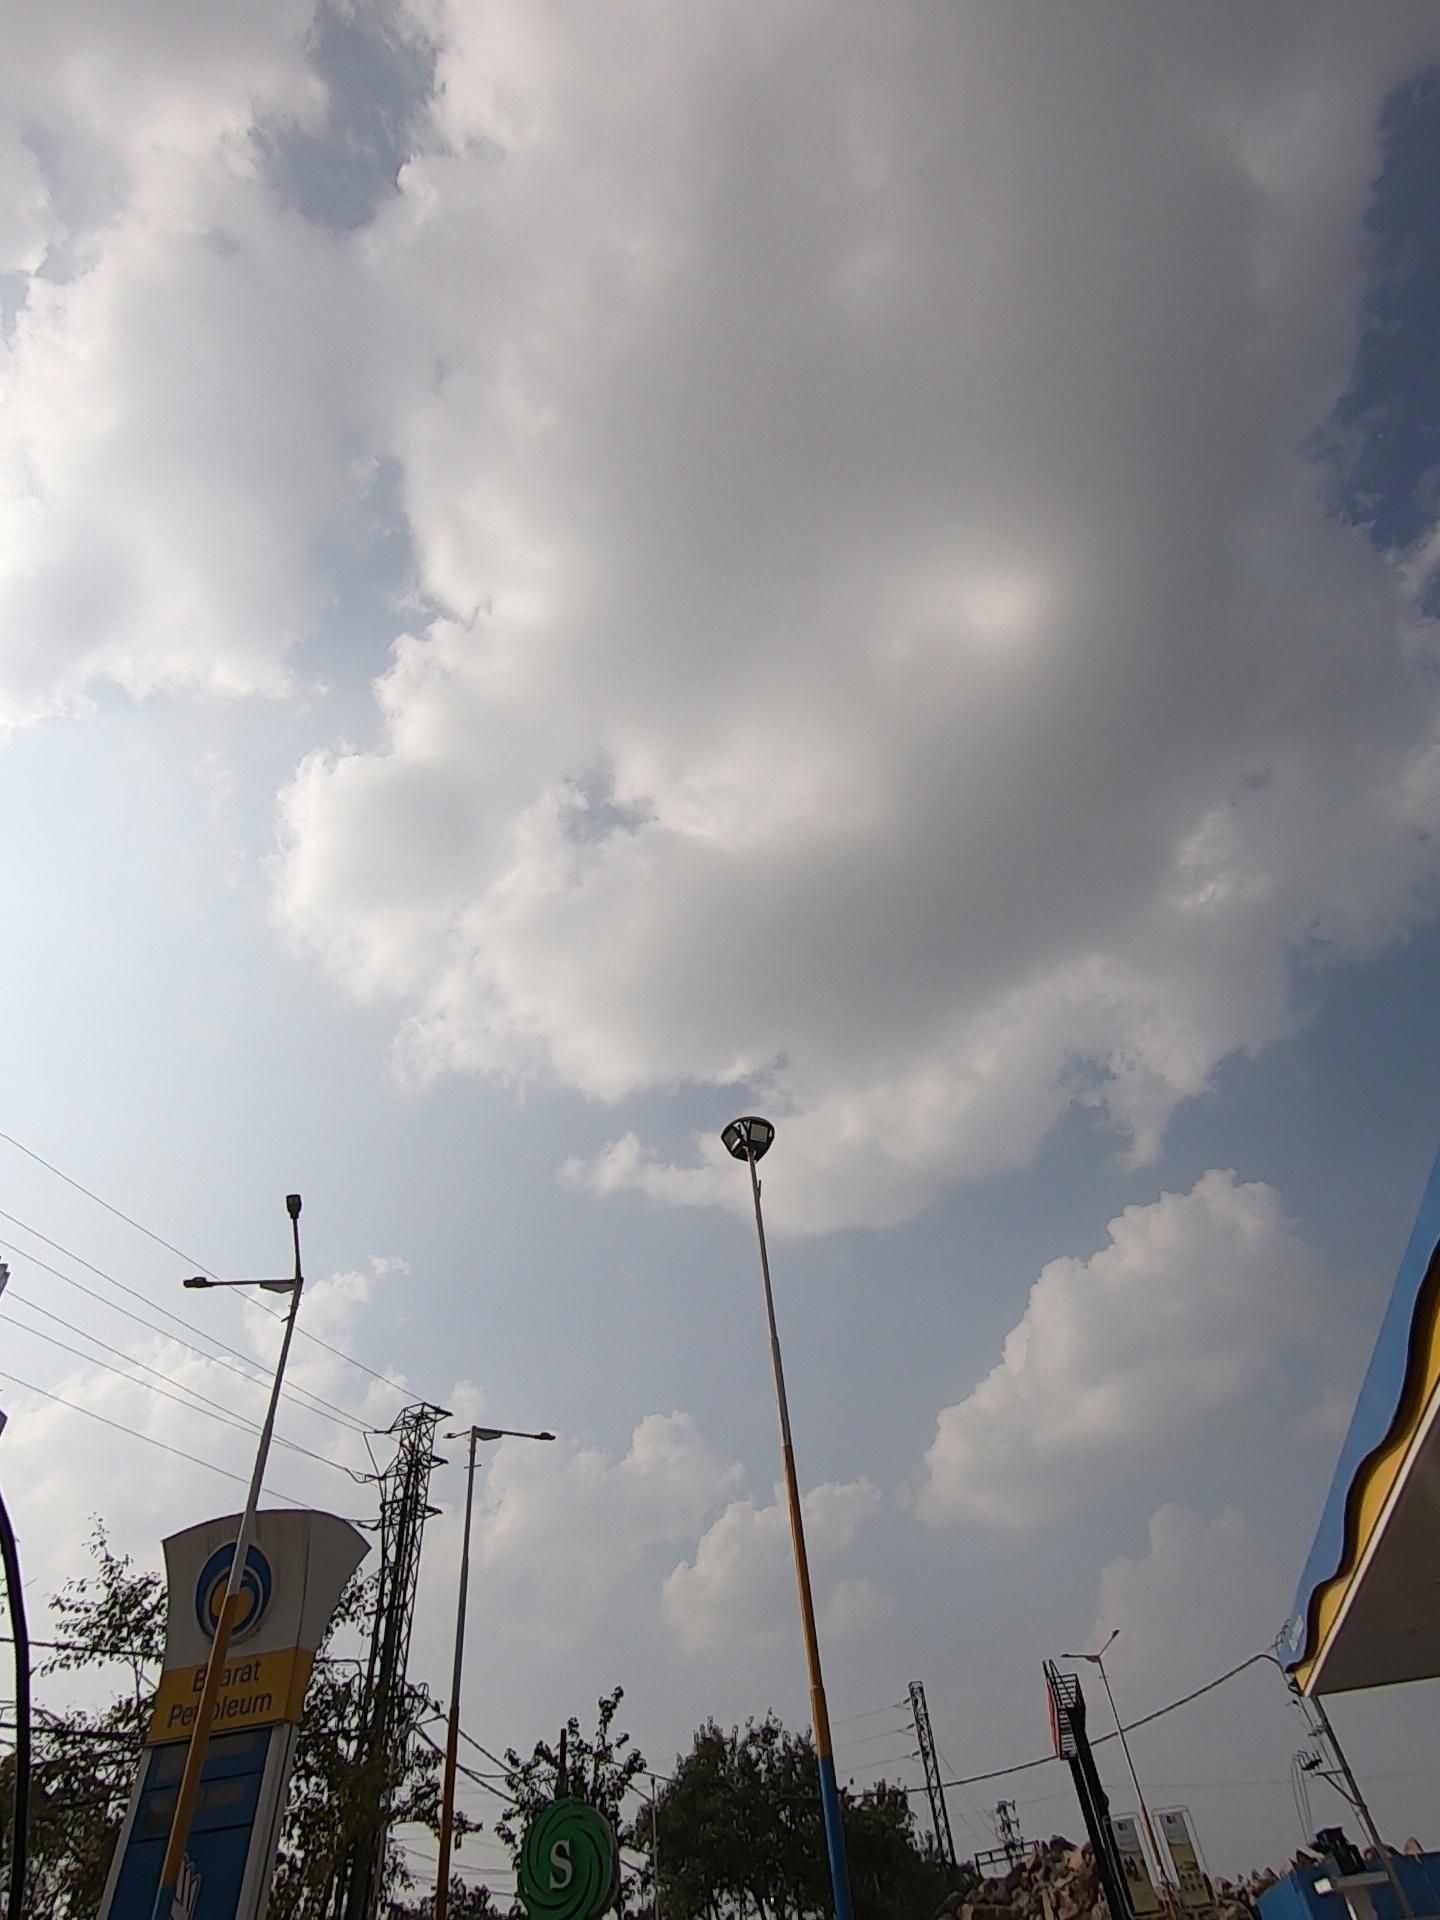off: (169, 1150, 392, 1380), (690, 1081, 867, 1223)
